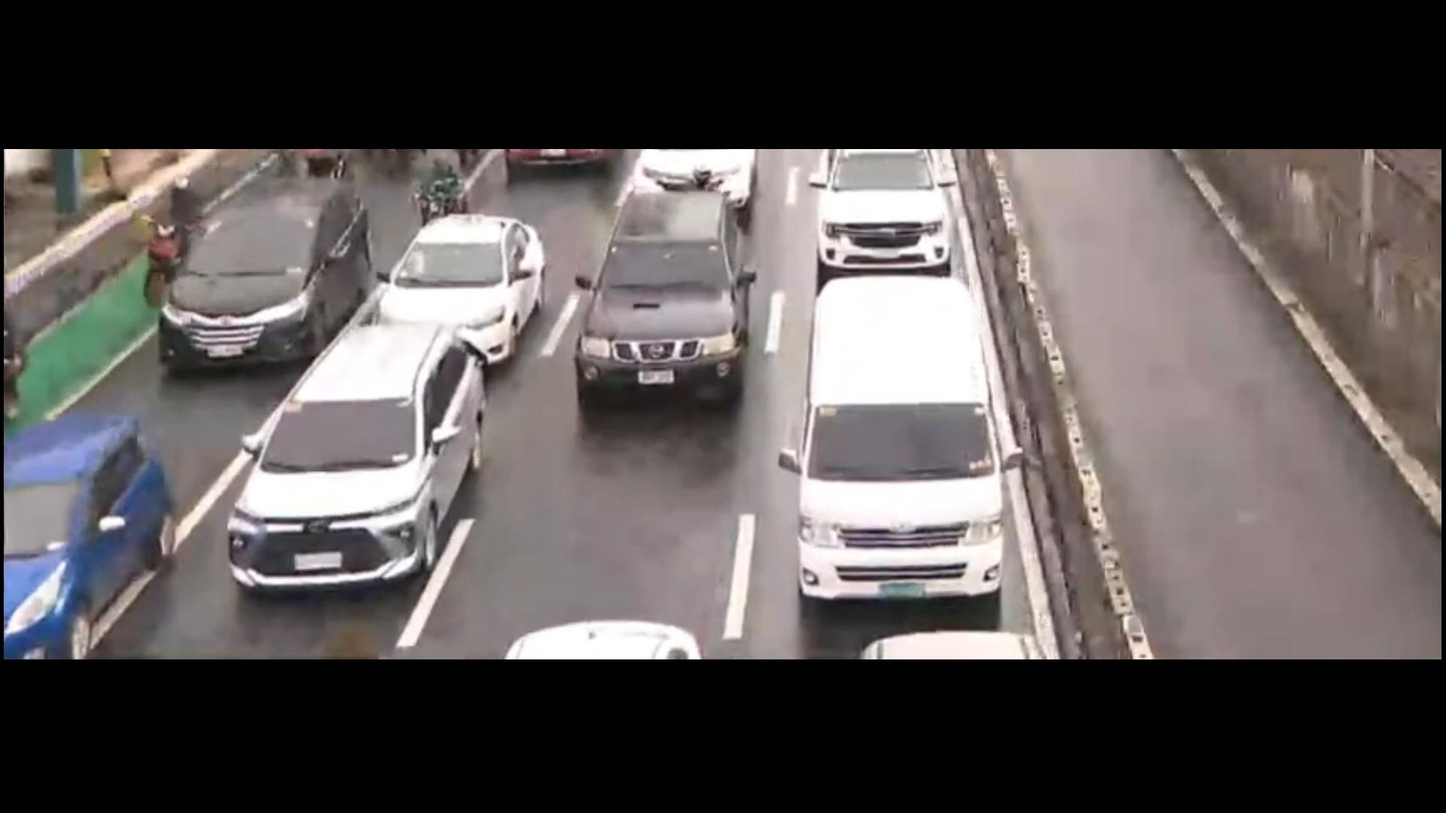Motorcycle: (103, 172, 224, 313), (405, 160, 488, 247)
SUV: (206, 337, 501, 596), (534, 187, 778, 429), (171, 153, 373, 381), (802, 149, 972, 286)
Sedan: (0, 396, 192, 666), (355, 194, 569, 357)
Van: (762, 266, 1017, 615)
